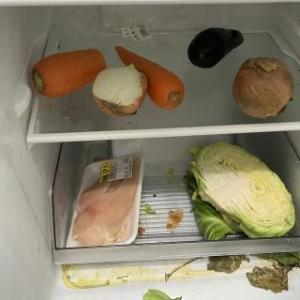cabbage: (186, 140, 298, 244)
carrot: (113, 44, 186, 112), (30, 47, 108, 101)
eggplant: (187, 28, 245, 70)
onion: (231, 56, 297, 122), (91, 63, 149, 120)
